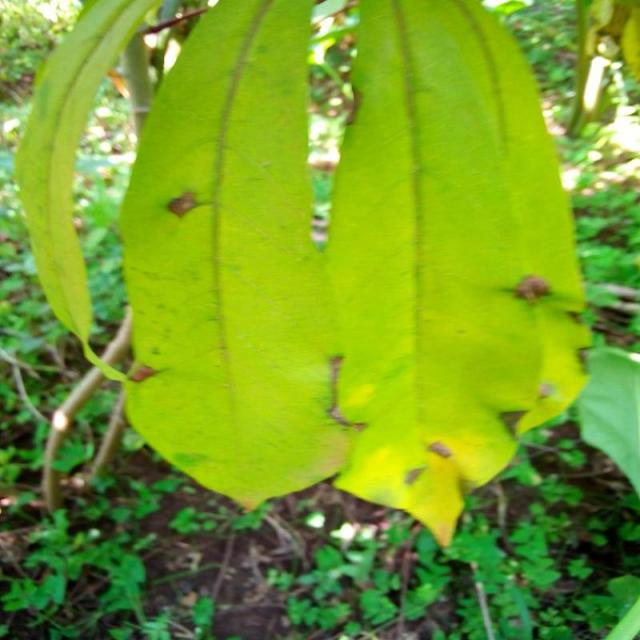cassava leaf: (116, 0, 594, 547), (118, 0, 356, 511)
